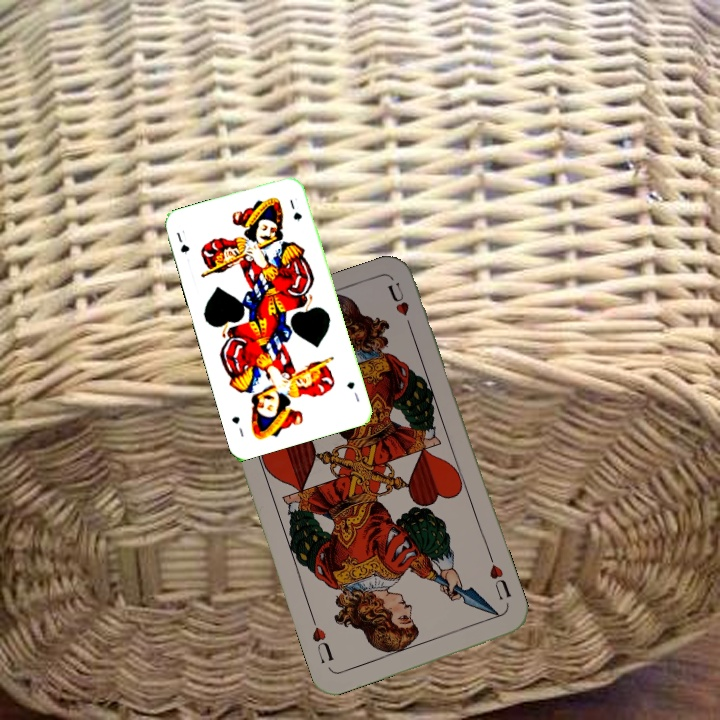GU: (172, 226, 192, 257), (343, 378, 362, 404)
HU: (485, 552, 514, 603)
